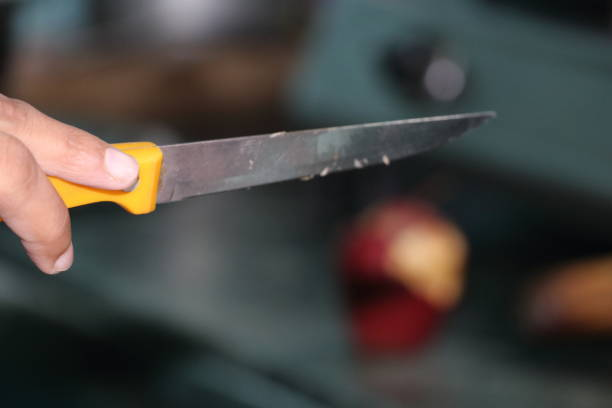knife: (43, 108, 500, 216)
